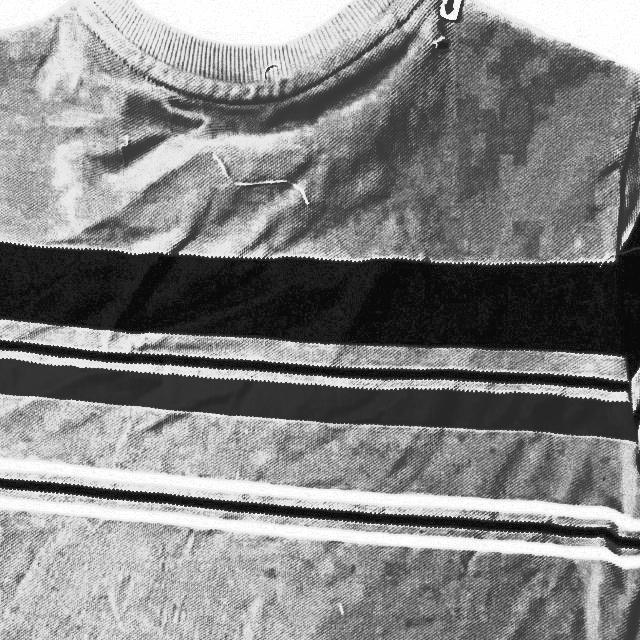Hole: (426, 32, 461, 58)
